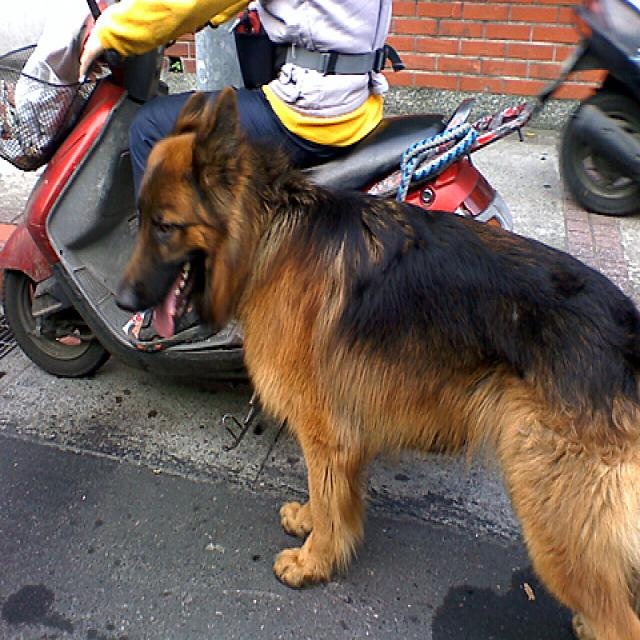motor: (1, 76, 534, 453), (539, 0, 640, 217)
